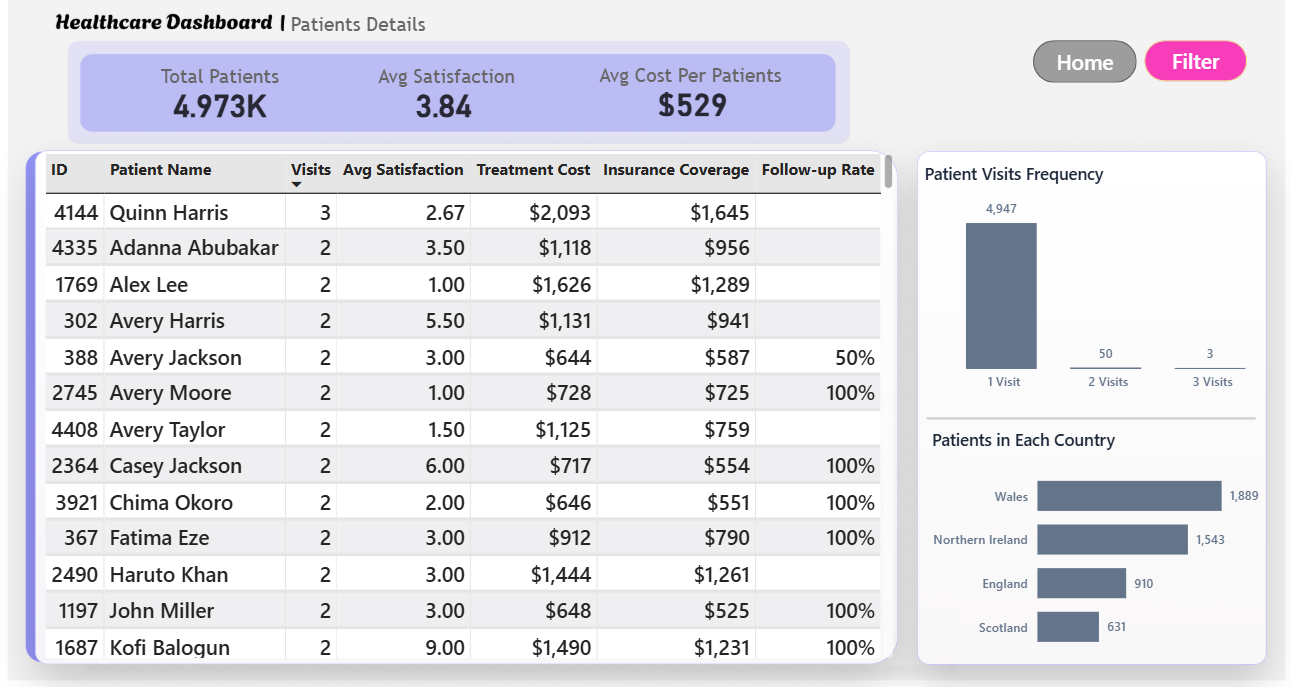

What the dashboard file says about the page in this screenshot:
{"tool":"powerbi","page":{"name":"Patients Details","canvas":[1280,720],"ordinal":4},"visuals":[{"type":"actionButton","box":[1115.9,54.6,99.3,39.7],"z":0},{"type":"tableEx","fields":{"Values":["dim_patients.Patient ID","dim_patients.Patient Name","_KPIs.Total Visits","_KPIs.Avg Satisfaction","_KPIs.Total Treatment Cost","_KPIs.Total Insurance Coverage","_KPIs.Follow-up Rate"]},"box":[49.5,159.2,828.8,495.8],"z":0,"group":"g1"},{"type":"textbox","box":[161.9,73.6,188.2,42.2],"z":1000,"group":"g1"},{"type":"group","id":"g1","title":"Patients Insights","box":[49.5,22.9,1214.9,635.8],"z":2000},{"type":"cardVisual","fields":{"Data":["_KPIs.Total Patients"]},"box":[149.8,86.8,159.3,59.1],"z":2000,"group":"g1"},{"type":"textbox","box":[371.4,73.6,188.2,42.2],"z":3000,"group":"g1"},{"type":"actionButton","box":[1008.6,54.3,100.1,41],"z":3001},{"type":"cardVisual","fields":{"Data":["_KPIs.Avg Satisfaction"]},"box":[383.3,86.8,159.3,59.1],"z":4000,"group":"g1"},{"type":"textbox","box":[585,72.4,188.2,42.2],"z":5000,"group":"g1"},{"type":"cardVisual","fields":{"Data":["_KPIs.Avg Cost Per Patients"]},"box":[617.3,85.6,171.3,59.1],"z":6000,"group":"g1"},{"type":"textbox","box":[287.2,22.9,188.2,42.2],"z":7000,"group":"g1"},{"type":"clusteredColumnChart","title":"Patient Visits Frequency","fields":{"Y":["_KPIs.Total Visits"],"Category":["fact_visits.Visit Frequency"]},"box":[898.8,171.3,365.6,230.4],"z":8000,"group":"g1"},{"type":"shape","box":[906.1,410.2,317.3,18.1],"z":9000,"group":"g1"},{"type":"clusteredBarChart","title":"Patients in Each Country","fields":{"Category":["dim_patients.State"],"Y":["_KPIs.Total Patients"]},"box":[906.1,428.3,325.7,230.4],"z":10000,"group":"g1"}]}

Visuals, with their boxes on the page's 1280x720 design canvas (x1, y1, x2, y2). These are canvas units, not pixel positions in the 1291x687 screenshot, which may show the page scaled, cropped or inside an application window:
actionButton: locate(1116, 55, 1215, 94)
tableEx - dim_patients.Patient ID x dim_patients.Patient Name: locate(50, 159, 878, 655)
textbox: locate(162, 74, 350, 116)
"Patients Insights" group: locate(50, 23, 1264, 659)
cardVisual - _KPIs.Total Patients: locate(150, 87, 309, 146)
textbox: locate(371, 74, 560, 116)
actionButton: locate(1009, 54, 1109, 95)
cardVisual - _KPIs.Avg Satisfaction: locate(383, 87, 543, 146)
textbox: locate(585, 72, 773, 115)
cardVisual - _KPIs.Avg Cost Per Patients: locate(617, 86, 789, 145)
textbox: locate(287, 23, 475, 65)
"Patient Visits Frequency" clusteredColumnChart: locate(899, 171, 1264, 402)
shape: locate(906, 410, 1223, 428)
"Patients in Each Country" clusteredBarChart: locate(906, 428, 1232, 659)
